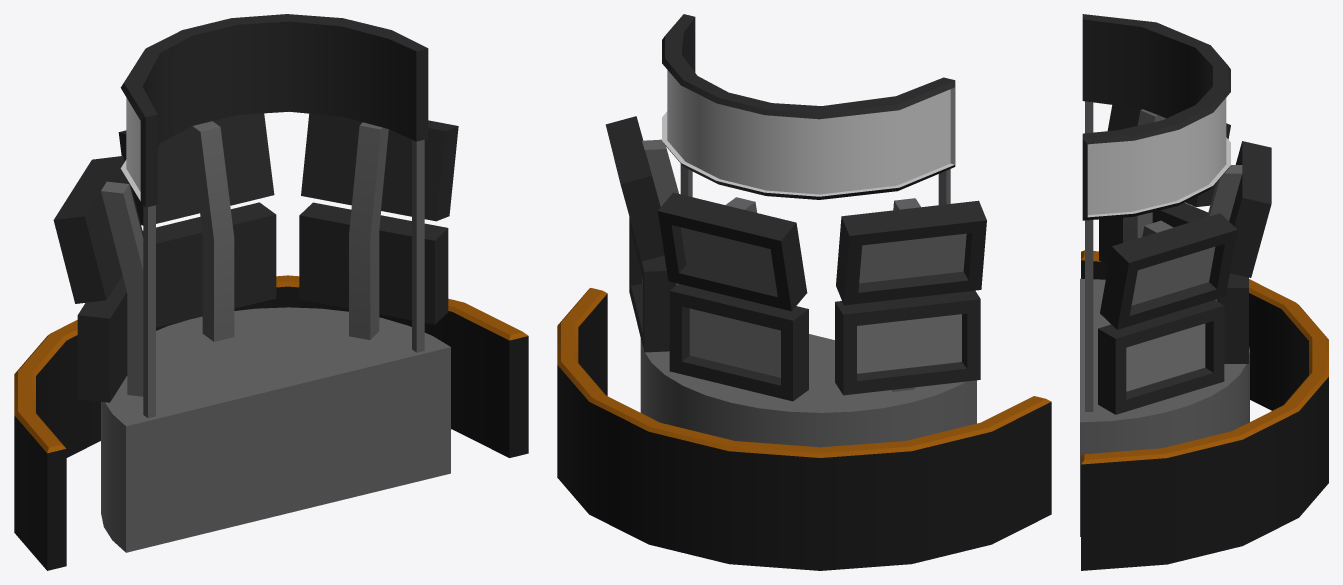
Rendered from StockStation_Half.fbx.
3 views of the same model, side by side, from view 1: azimuth 30°, elevation 25°; view 2: azimuth 150°, elevation 25°; view 3: azimuth 270°, elevation 25° (orthographic). The views are drawn at different scales.
Visible parts, largest first — view 1: StockStation_Half; view 2: StockStation_Half; view 3: StockStation_Half.
Boxes of the visible parts, x1,y1,x2,y2 form: StockStation_Half: [14, 14, 528, 570]; StockStation_Half: [557, 14, 1051, 570]; StockStation_Half: [1080, 14, 1328, 570].
Size of the model in its own units: 600 by 511 by 297.
